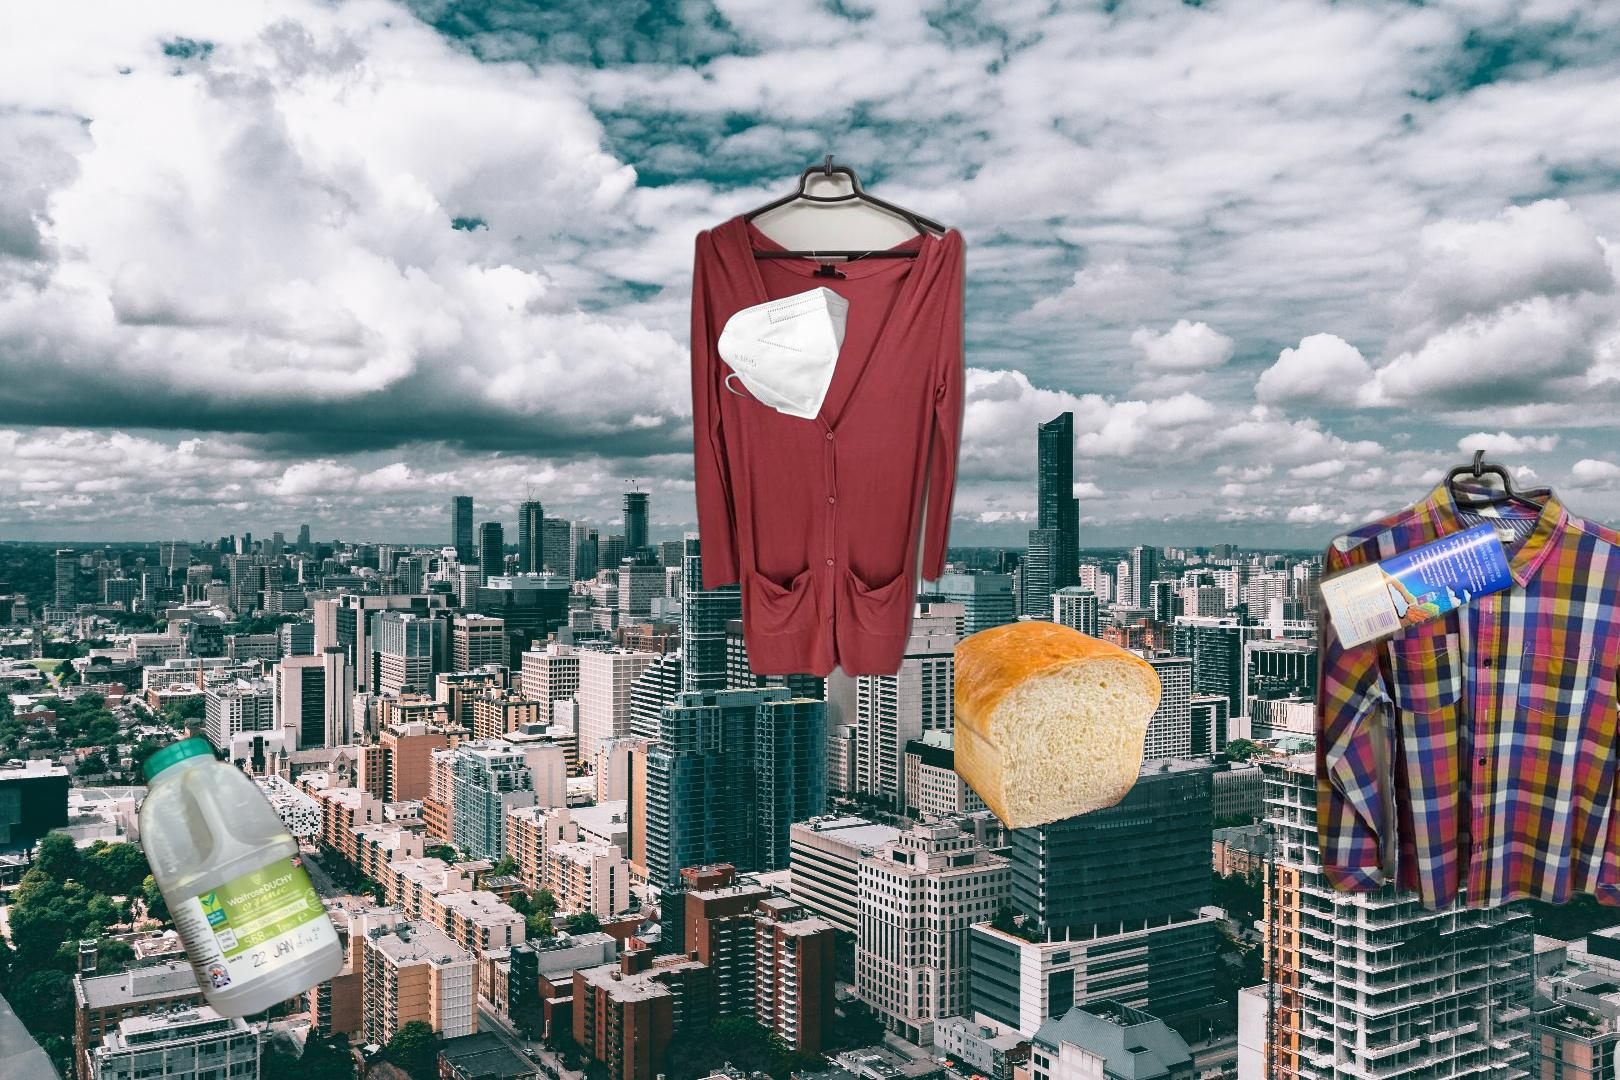battery: (1606, 1006, 1620, 1080)
biological: (953, 617, 1166, 837)
clothes: (687, 155, 969, 683), (1311, 450, 1620, 916)
penholder: (1597, 221, 1620, 1020)
plastic-bottles: (1156, 242, 1567, 874), (133, 729, 348, 1025)
trash: (708, 250, 852, 423)
